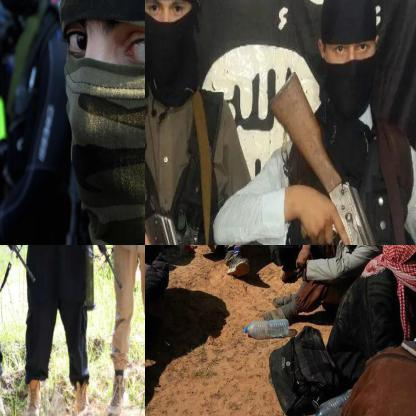rifle: (269, 66, 411, 244), (145, 102, 202, 244), (30, 245, 127, 296)
